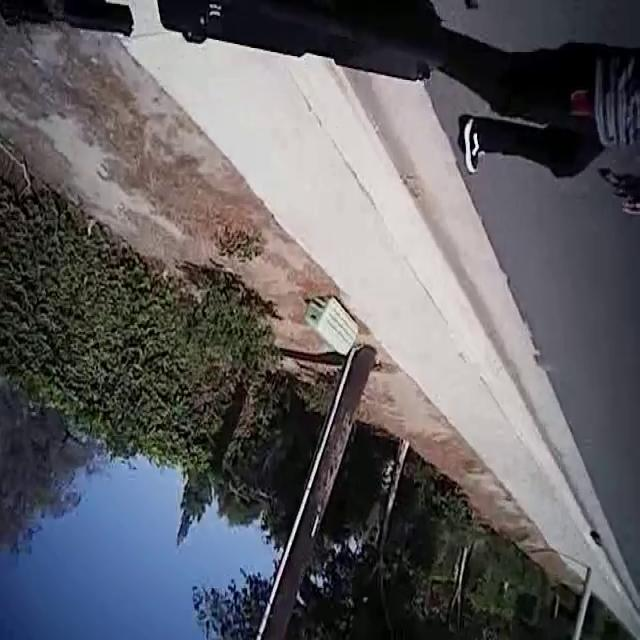gun: (0, 0, 163, 66)
